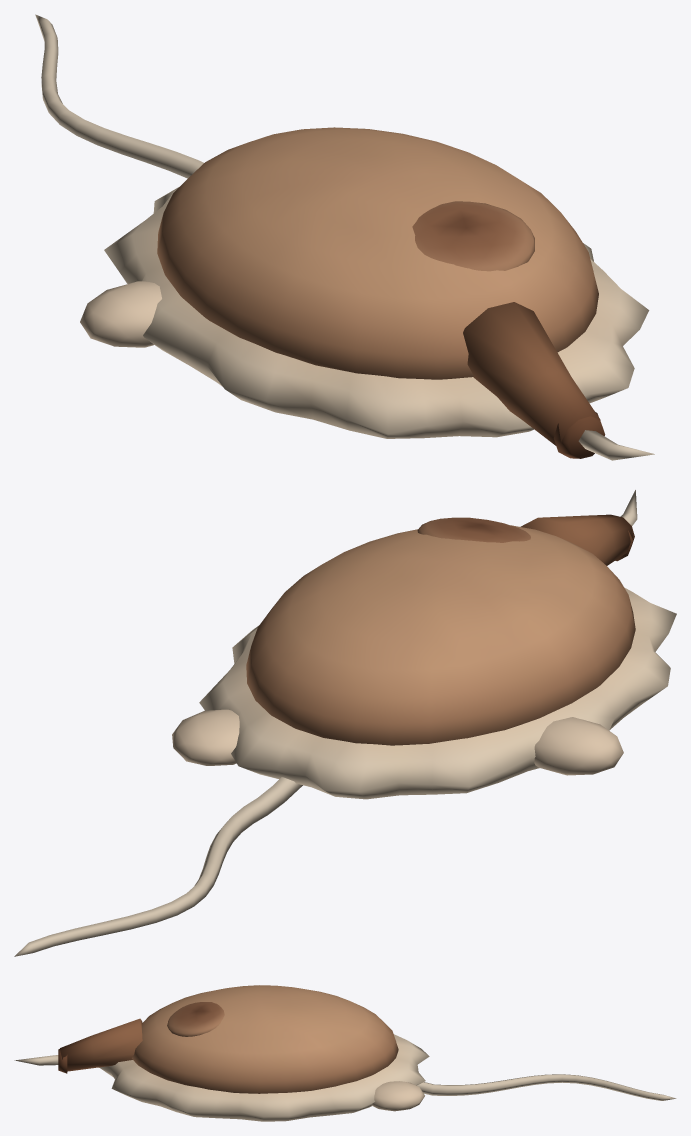
File: Thecamonas.fbx
The picture shows the model from 3 angles, top to bottom: view 1: azimuth 30°, elevation 25°; view 2: azimuth 150°, elevation 25°; view 3: azimuth 270°, elevation 25°; orthographic projection. The views are drawn at different scales.
Parts seen in each view (by area): view 1: Thecamonas; view 2: Thecamonas; view 3: Thecamonas.
Boxes of the visible parts, x1,y1,x2,y2 form: Thecamonas: [35, 14, 654, 460]; Thecamonas: [14, 490, 676, 956]; Thecamonas: [14, 985, 676, 1121].
Bounding box in the file's own units: 0.6473 × 0.24 × 1.62.
